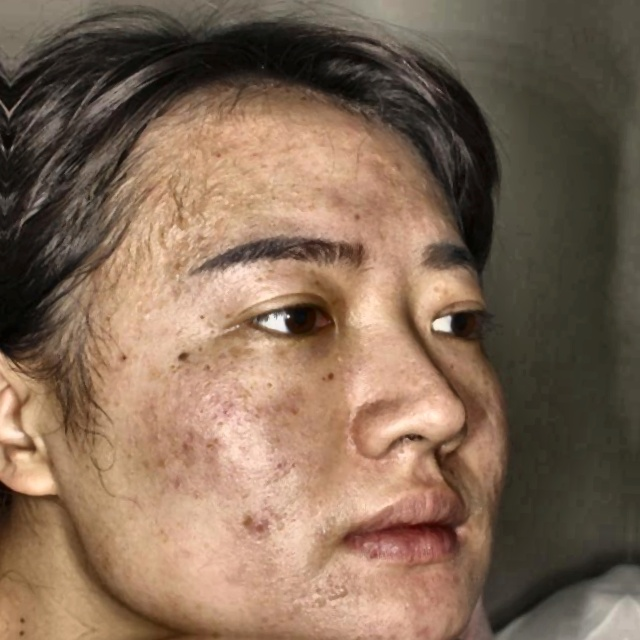comedone: (375, 148, 416, 186), (233, 514, 282, 539)
